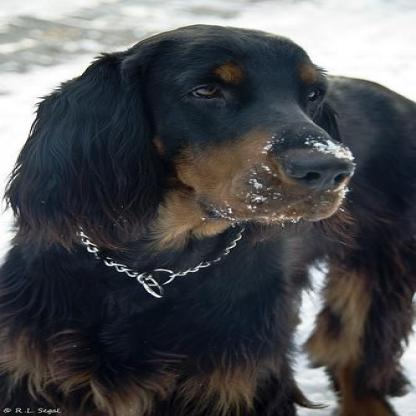Gordon_setter: (0, 24, 412, 413)
